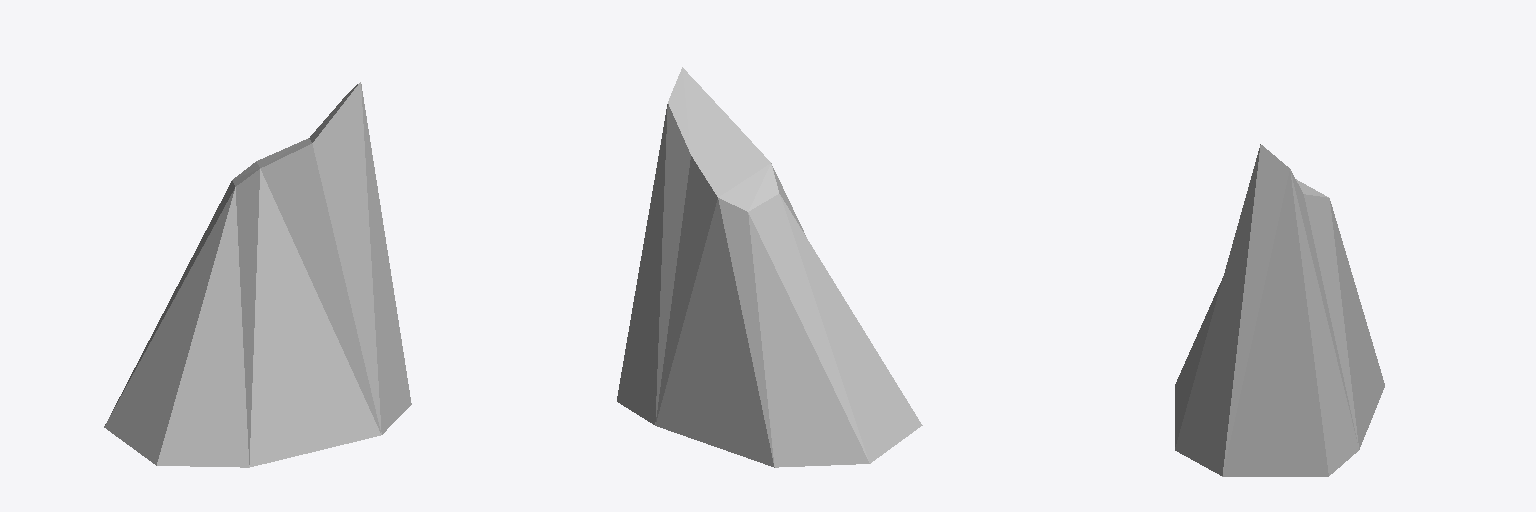
Rendered from skala_003.obj.
The picture shows the model from 3 angles: view 1: azimuth 30°, elevation 25°; view 2: azimuth 150°, elevation 25°; view 3: azimuth 270°, elevation 25°; orthographic projection.
Visible parts, largest first — view 1: Скала.003; view 2: Скала.003; view 3: Скала.003.
Boxes of the visible parts, box(x1,y1,x2,y2) form: Скала.003: box(104, 82, 411, 467); Скала.003: box(617, 67, 922, 467); Скала.003: box(1175, 144, 1384, 476).
Size of the model in its own units: 1.92 by 2.29 by 1.38.